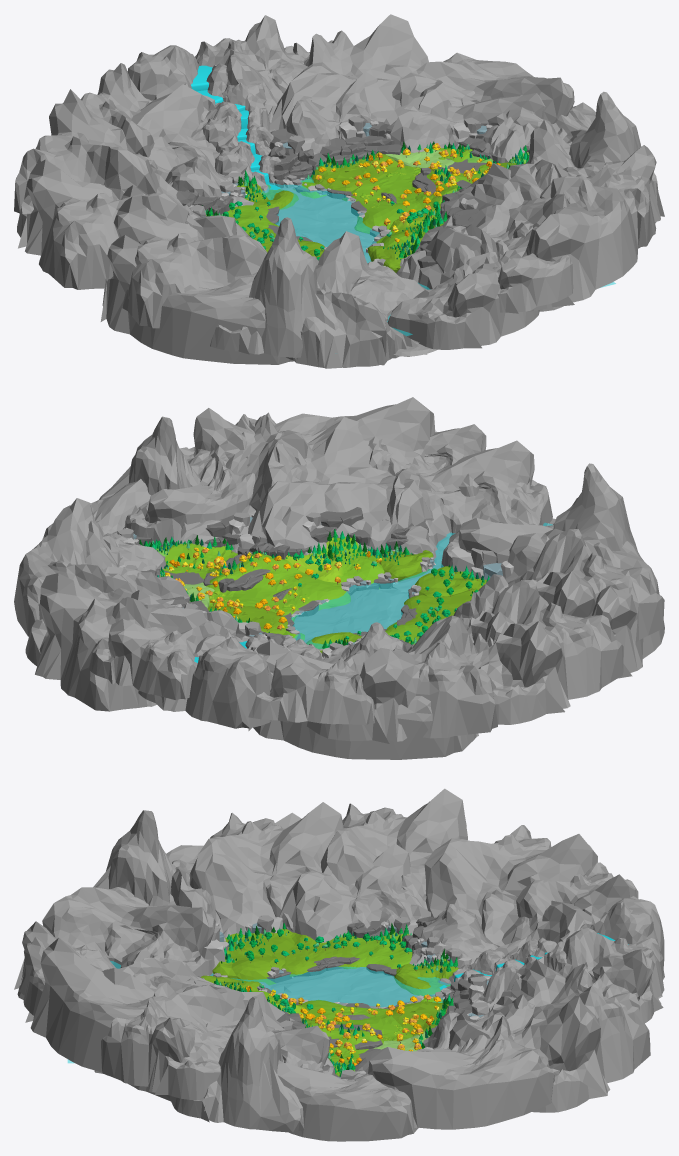
File: WholeIsland3-transformed.glb
3 renders of one model, top to bottom at view 1: azimuth 30°, elevation 25°; view 2: azimuth 150°, elevation 25°; view 3: azimuth 270°, elevation 25°, orthographic.
Parts seen in each view (by area): view 1: mountains_003.001, water_001.001; view 2: mountains_003.001, water_001.001; view 3: mountains_003.001, water_001.001.
Part boxes in pixels (left/top/right/bottom): mountains_003.001: left=14, top=14, right=664, bottom=368; water_001.001: left=261, top=177, right=615, bottom=335; mountains_003.001: left=14, top=397, right=664, bottom=759; water_001.001: left=291, top=523, right=552, bottom=648; mountains_003.001: left=14, top=788, right=664, bottom=1141; water_001.001: left=67, top=961, right=450, bottom=1063.
Size of the model in its own units: 1043 by 239 by 1040.
Materials: 2 (2 with a texture image).
